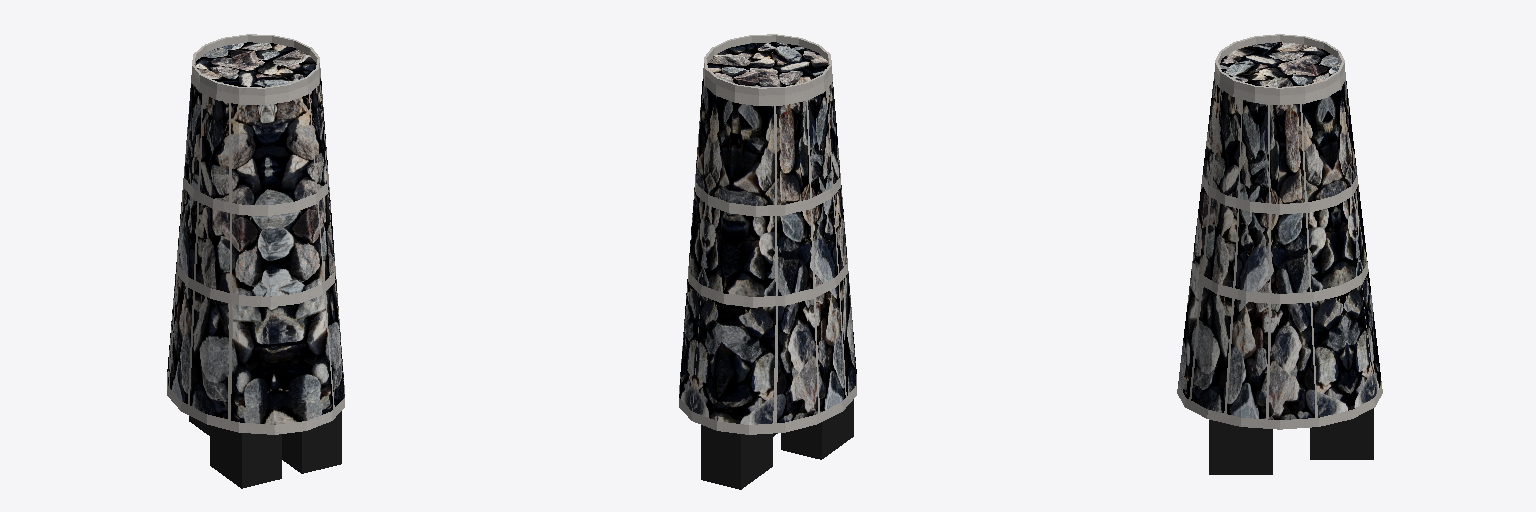
3 views of the same model, side by side, from view 1: azimuth 30°, elevation 25°; view 2: azimuth 150°, elevation 25°; view 3: azimuth 270°, elevation 25° (orthographic).
Visible parts, largest first — view 1: kiuas_Cylinder.000; view 2: kiuas_Cylinder.000; view 3: kiuas_Cylinder.000.
Boxes of the visible parts, x1,y1,x2,y2 form: kiuas_Cylinder.000: [167, 34, 344, 488]; kiuas_Cylinder.000: [679, 34, 856, 489]; kiuas_Cylinder.000: [1177, 34, 1382, 474].
Size of the model in its own units: 7.43 by 18.43 by 8.84.
2 materials, 1 textured.